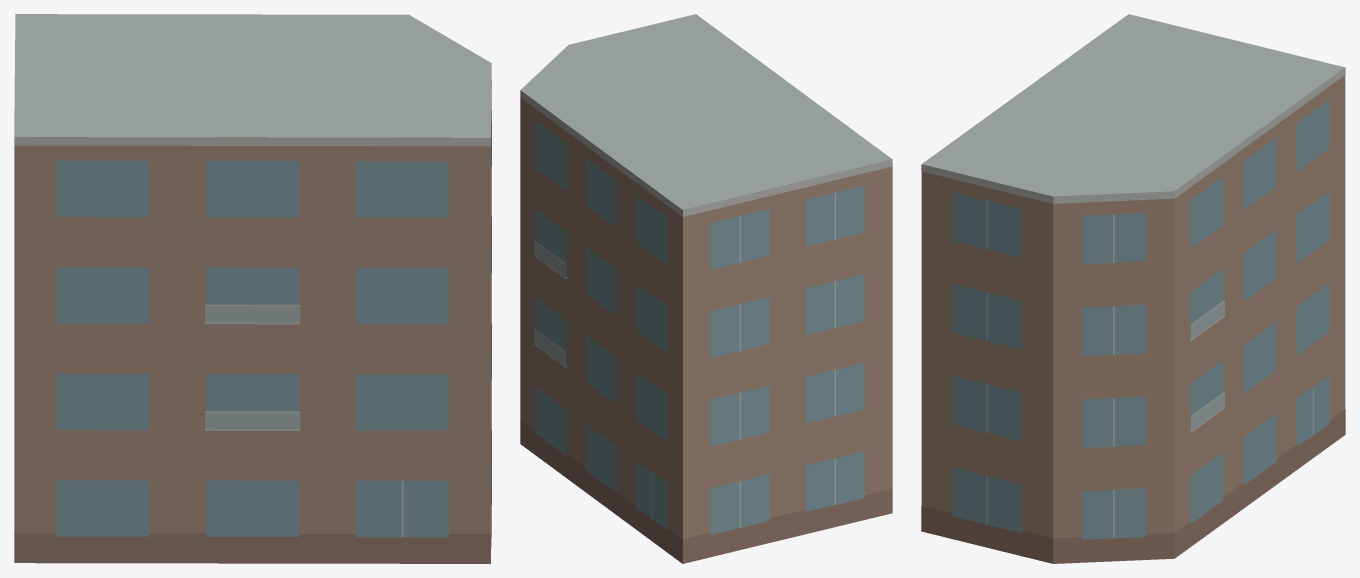
File: residential-8cb33aa4-d630-4a12-9137-2b06f2ffce8f.glb
The picture shows the model from 3 angles, left to right: view 1: azimuth 30°, elevation 25°; view 2: azimuth 150°, elevation 25°; view 3: azimuth 270°, elevation 25°; orthographic projection. The views are drawn at different scales.
Parts seen in each view (by area): view 1: residential-8cb33aa4-d630-4a12-9137-2b06f2ffce8f.tmp; view 2: residential-8cb33aa4-d630-4a12-9137-2b06f2ffce8f.tmp; view 3: residential-8cb33aa4-d630-4a12-9137-2b06f2ffce8f.tmp.
Boxes of the visible parts, x1=… form: residential-8cb33aa4-d630-4a12-9137-2b06f2ffce8f.tmp: x1=14, y1=14, x2=491, y2=563; residential-8cb33aa4-d630-4a12-9137-2b06f2ffce8f.tmp: x1=520, y1=14, x2=892, y2=563; residential-8cb33aa4-d630-4a12-9137-2b06f2ffce8f.tmp: x1=921, y1=14, x2=1345, y2=563.
Size of the model in its own units: 13.01 by 12.2 by 12.77.
